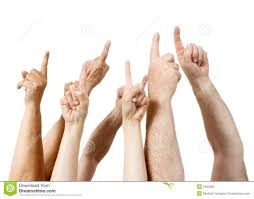hand: (164, 22, 220, 89), (135, 26, 185, 101), (10, 43, 60, 115)
